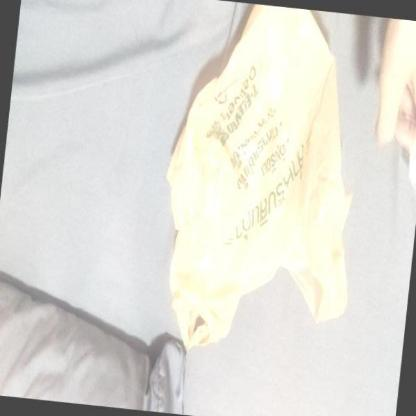Plastic Bag: (162, 0, 354, 346)
